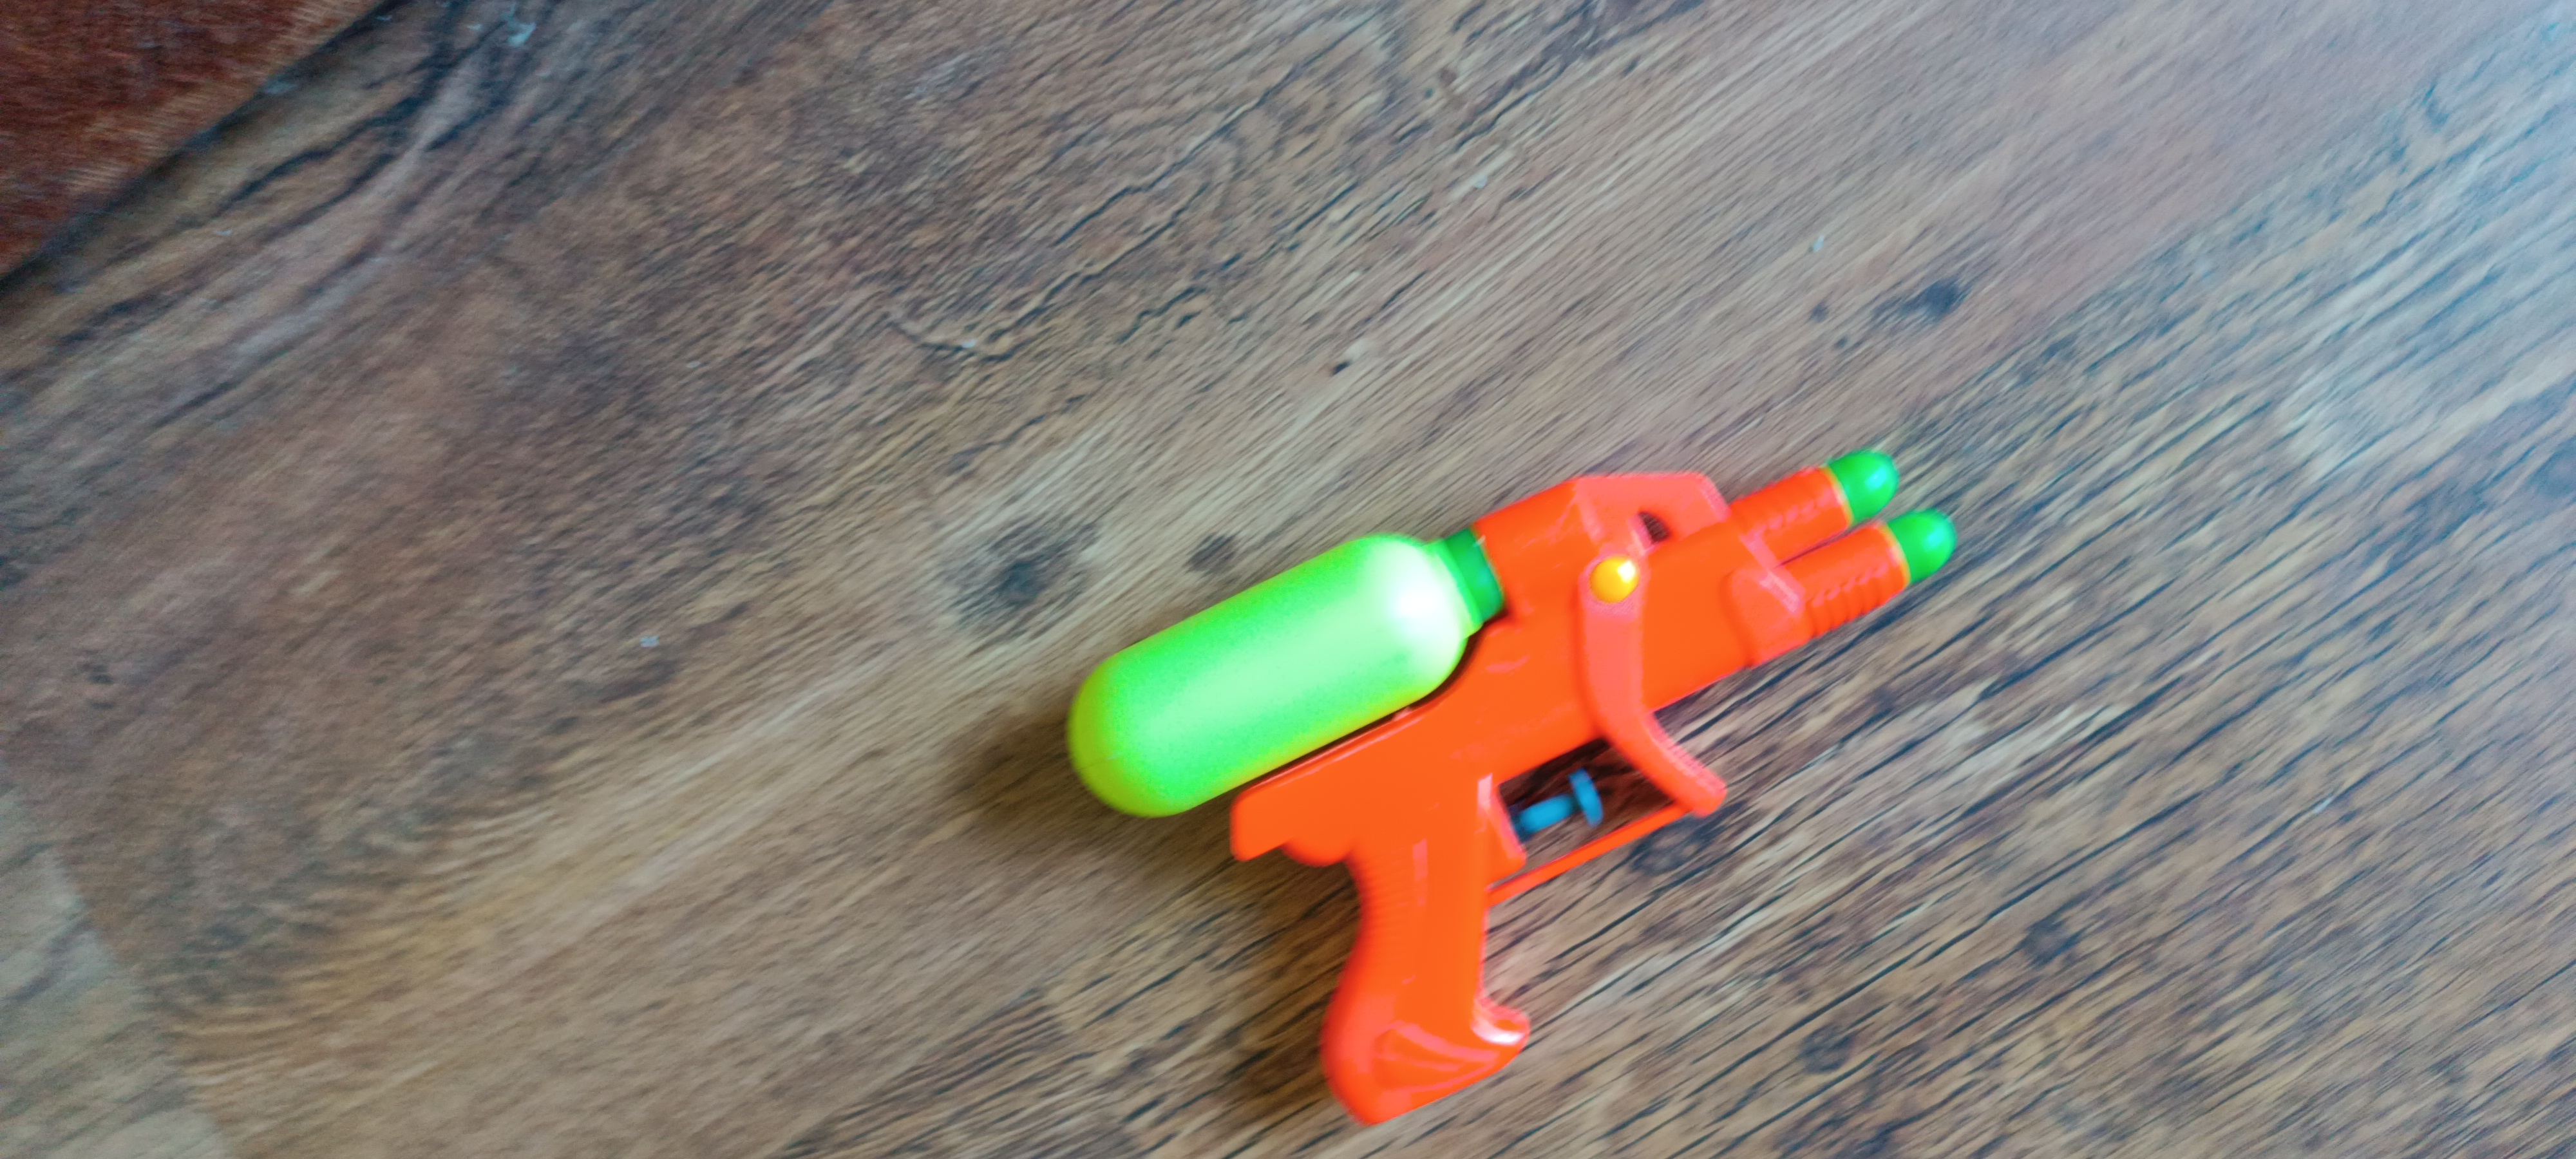Water Gun: (1065, 448, 1958, 1126)
